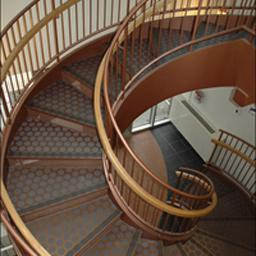Escaleras: (2, 2, 255, 254)
